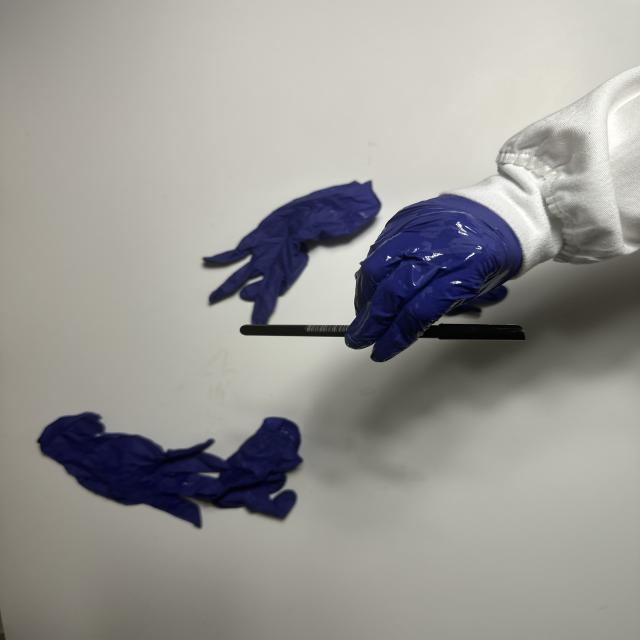gloves_contaminated: (345, 195, 522, 362)
